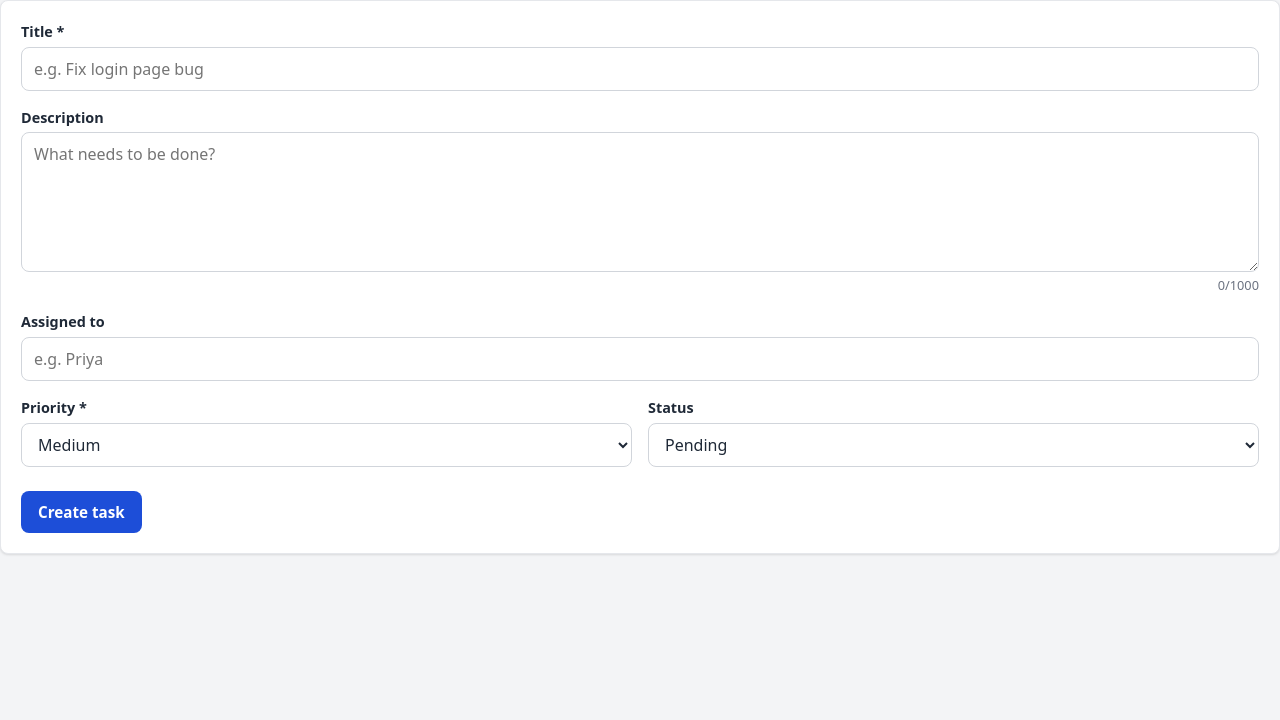
Test: TaskForm › requires a priority
Type "Valid title" into the field labelled "Title *" at x=640, y=69, box [21,47,1259,91]
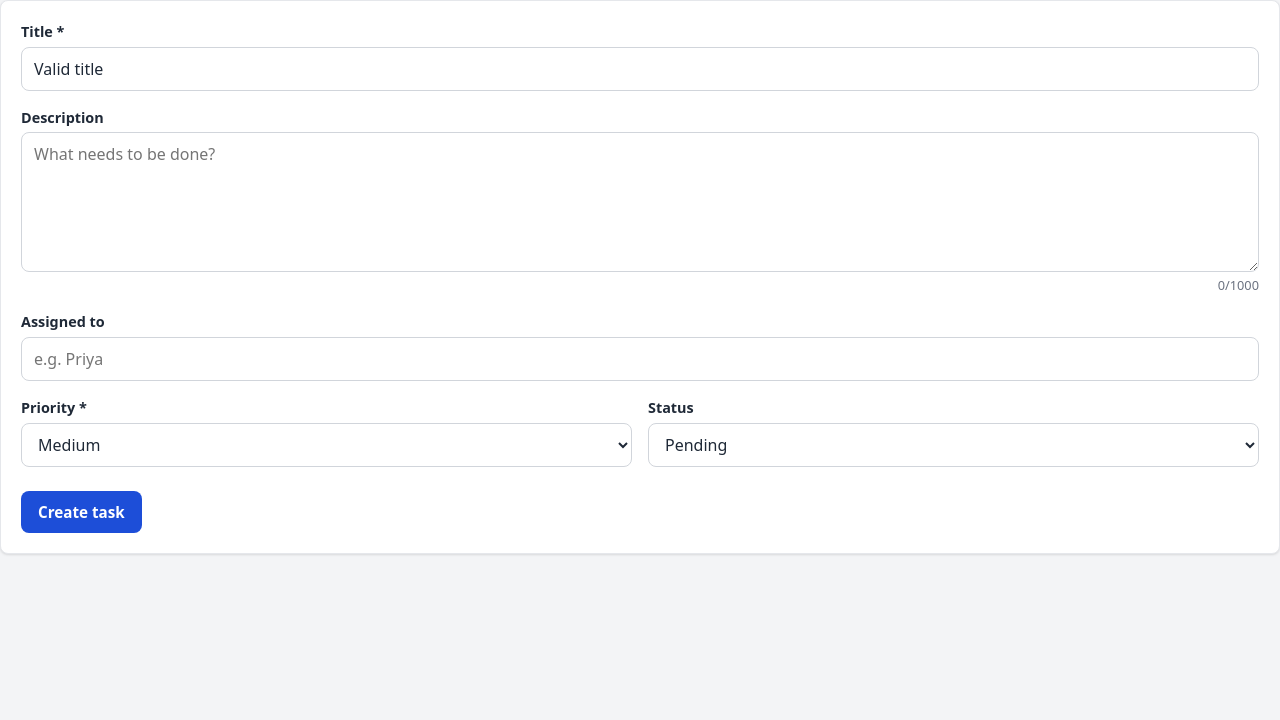
Select "Select priority" in the dropdown labelled "Priority *" at x=326, y=445, box [21,423,632,467]
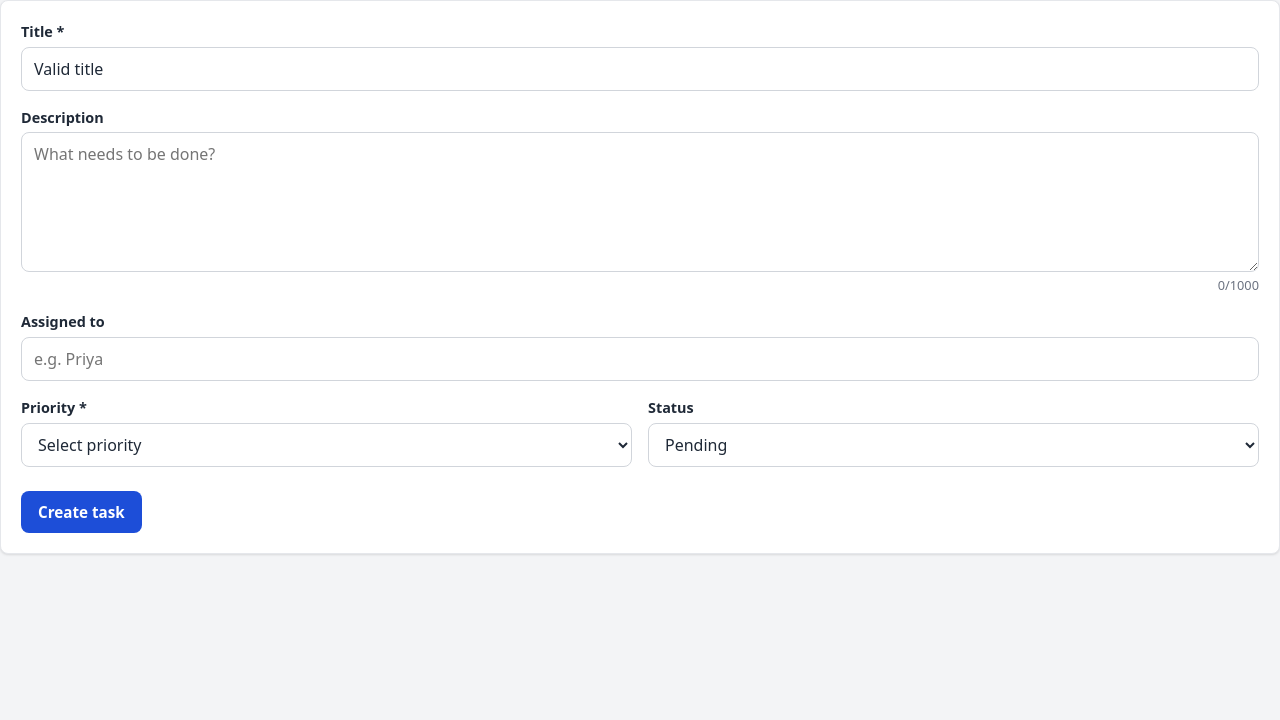
Click the button "Create task" at x=81, y=512, box [21,491,142,533]
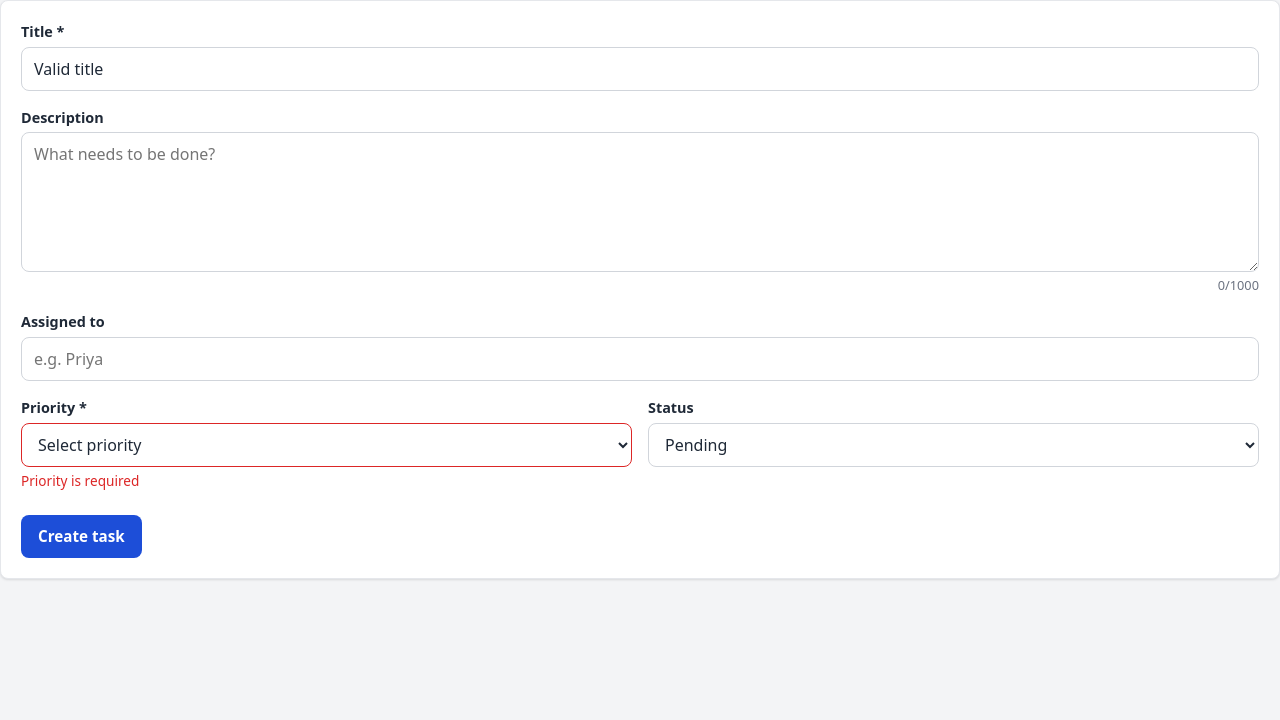
Now the text "Priority is required" is shown, box [21,471,139,490]
